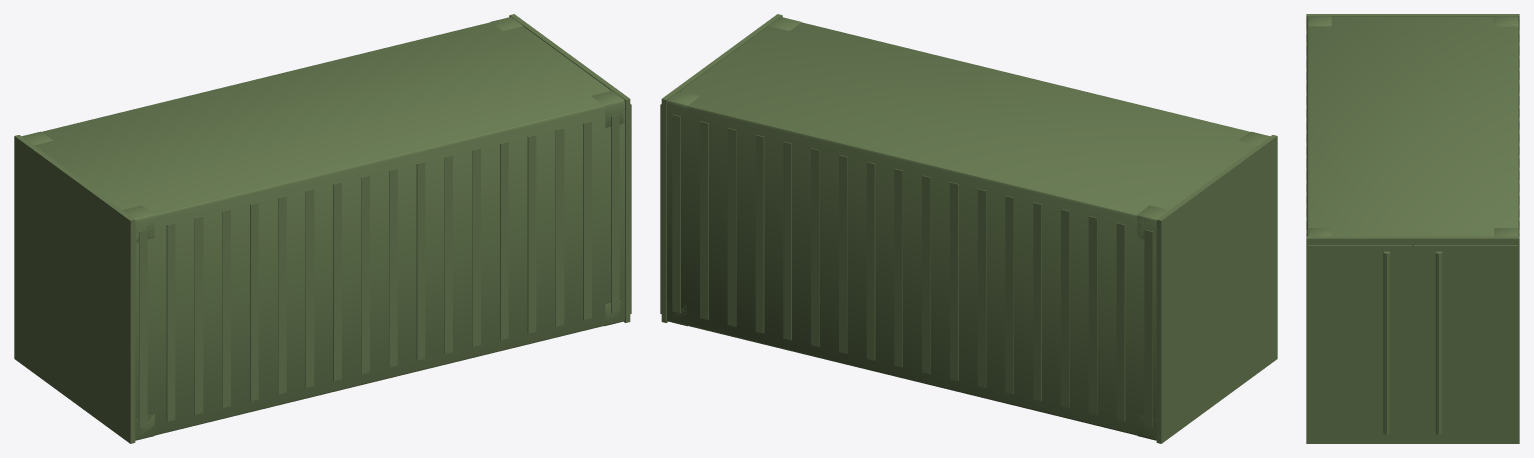
File: gen-shipping-container-1.glb
The picture shows the model from 3 angles, left to right: view 1: azimuth 30°, elevation 25°; view 2: azimuth 150°, elevation 25°; view 3: azimuth 270°, elevation 25°; orthographic projection. The views are drawn at different scales.
Visible parts, largest first — view 1: gen-shipping-container-1_part1; view 2: gen-shipping-container-1_part1; view 3: gen-shipping-container-1_part1.
Boxes of the visible parts, bbox=[...] form: gen-shipping-container-1_part1: bbox=[14, 14, 631, 443]; gen-shipping-container-1_part1: bbox=[660, 14, 1277, 443]; gen-shipping-container-1_part1: bbox=[1306, 14, 1519, 443].
Size of the model in its own units: 6200 by 2610 by 2460.
